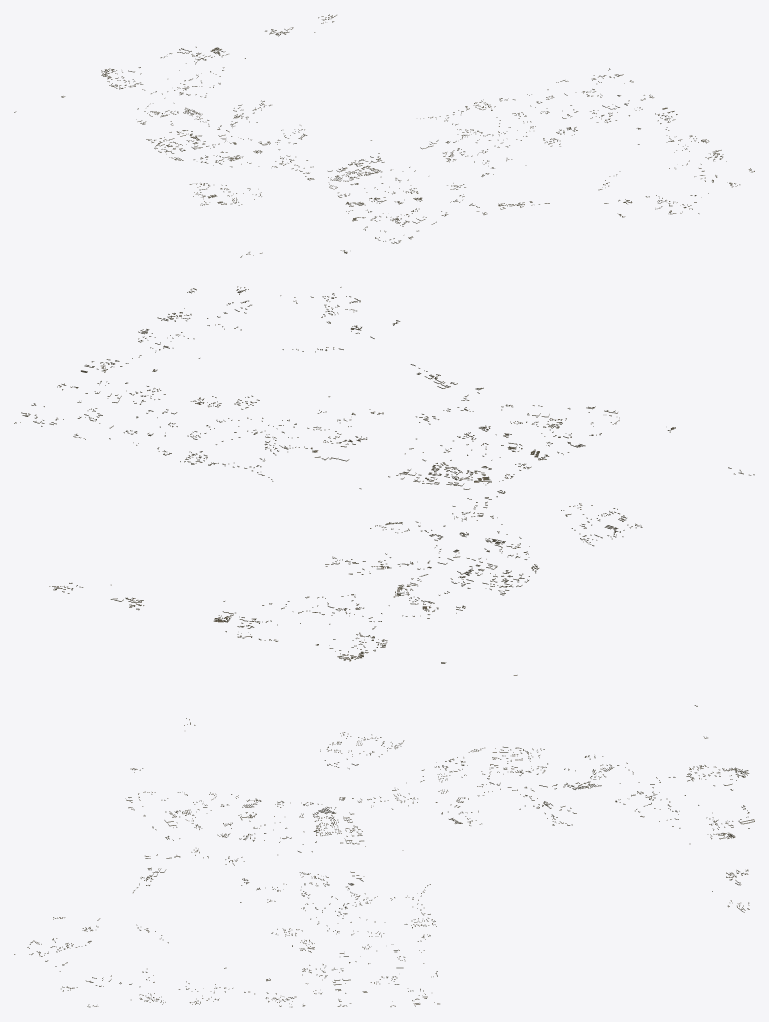
File: NoLod_122.glb
The picture shows the model from 3 angles, top to bottom: view 1: azimuth 30°, elevation 25°; view 2: azimuth 150°, elevation 25°; view 3: azimuth 270°, elevation 25°; orthographic projection. The views are drawn at different scales.
Parts seen in each view (by area): view 1: rtc; view 2: rtc; view 3: rtc.
Part boxes in pixels (box(x1,y1,x2,y2)): rtc: box(14, 14, 754, 257); rtc: box(14, 286, 754, 675); rtc: box(14, 705, 754, 1007).
Size of the model in its own units: 11290 by 87.34 by 11732.
1 material, 1 textured.
